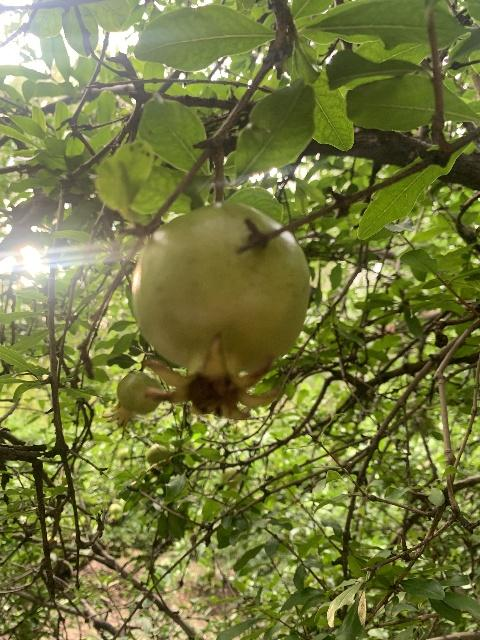mid-growth: (127, 203, 311, 422), (100, 370, 163, 434), (145, 443, 169, 470), (107, 503, 123, 521)
